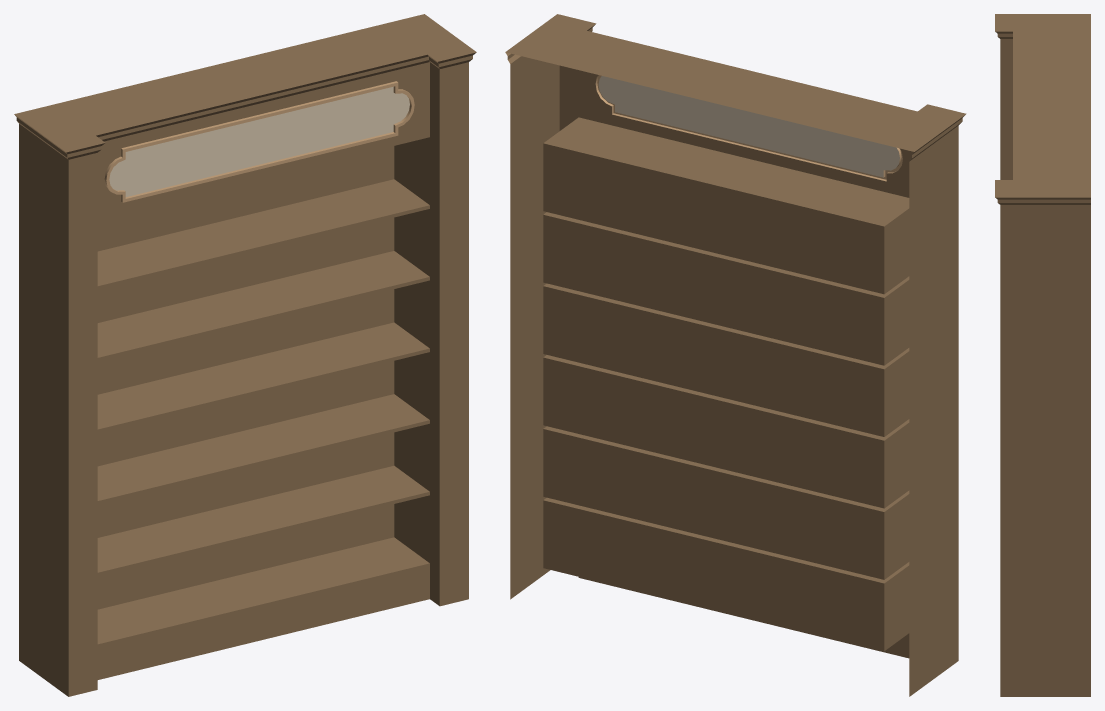
File: prop_biblioteca_estanteria001.fbx
3 renders of one model, left to right at view 1: azimuth 30°, elevation 25°; view 2: azimuth 150°, elevation 25°; view 3: azimuth 270°, elevation 25°, orthographic. The views are drawn at different scales.
Visible parts, largest first — view 1: prop_biblioteca_estanteria001; view 2: prop_biblioteca_estanteria001; view 3: prop_biblioteca_estanteria001.
Part boxes in pixels (bbox=[...]): prop_biblioteca_estanteria001: bbox=[14, 14, 476, 696]; prop_biblioteca_estanteria001: bbox=[505, 14, 966, 696]; prop_biblioteca_estanteria001: bbox=[995, 14, 1090, 696].
Bounding box in the file's own units: 240 × 306 × 53.
